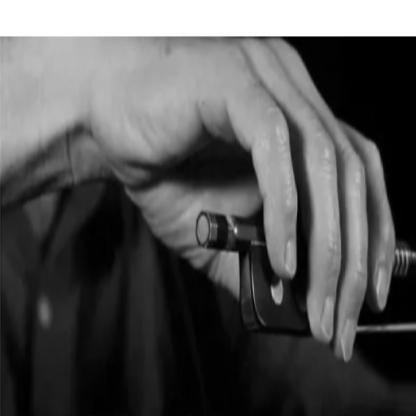good: (214, 41, 400, 372)
